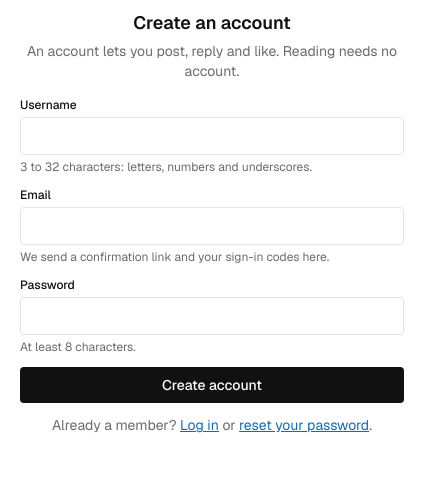
it: Register › reports a refusal that belongs to no single field
The image size is (425, 500).
Type "newmember" into the field labelled "Username" at [212, 136], box [20,117,404,155]
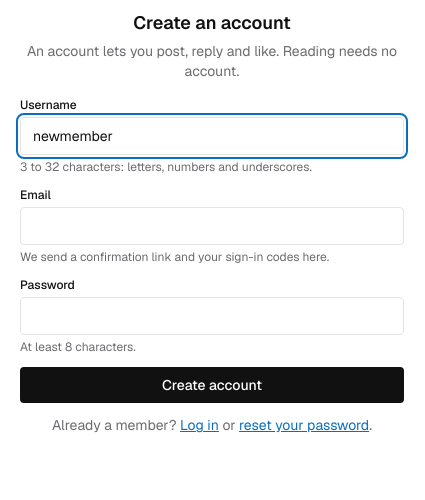
Type "newmember@example.com" into the field labelled "Email" at [212, 226], box [20,207,404,245]
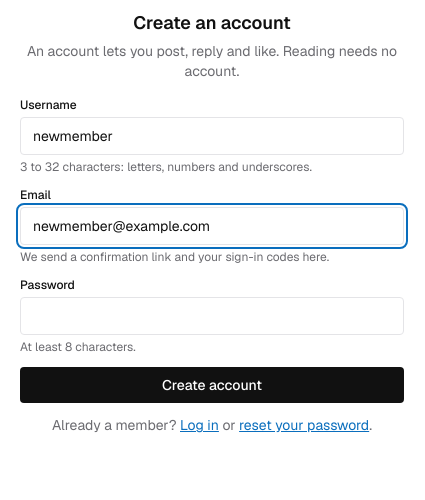
Type "Password123!" into the password field labelled "Password" at [212, 316], box [20,297,404,335]
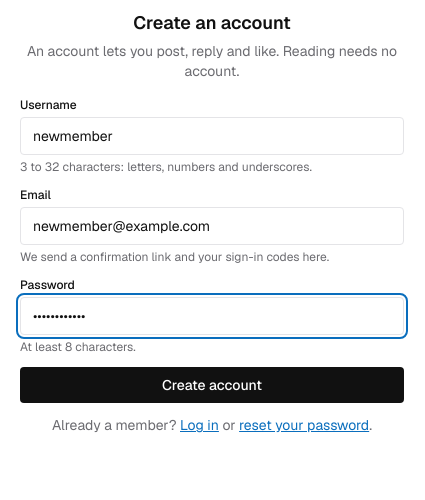
Click the button "Create account" at [212, 385], box [20,367,404,403]
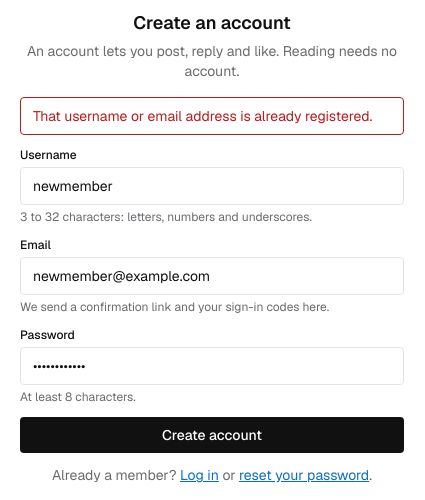
Now the message shows "already registered", box [33,107,372,125]
